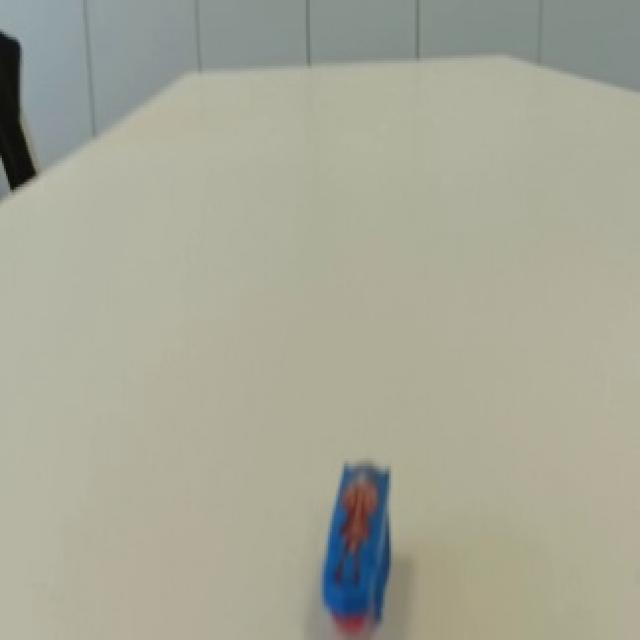1_NanoBug_Azul: (314, 439, 399, 640)
